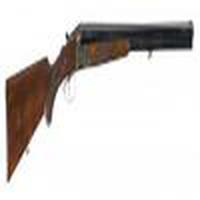gun: (4, 23, 191, 180)
